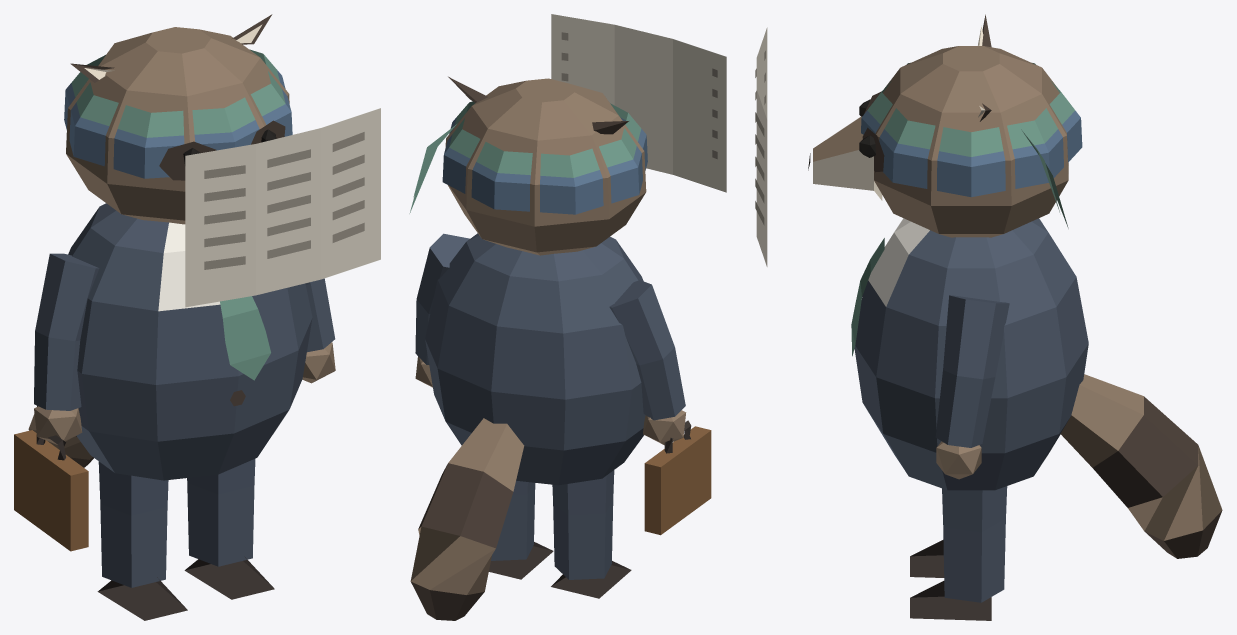
Rendered from tanuki.glb.
The picture shows the model from 3 angles, left to right: view 1: azimuth 30°, elevation 25°; view 2: azimuth 150°, elevation 25°; view 3: azimuth 270°, elevation 25°; orthographic projection. The views are drawn at different scales.
Visible parts, largest first — view 1: body, newspaper, head, leg_L, arm_L, leg_R, briefcase, mask, headtie, tie, arm_R, tail; view 2: body, newspaper, head, tail, mask, leg_L, arm_L, briefcase, headtie, leg_R, arm_R; view 3: body, head, tail, arm_R, leg_R, mask, headtie, newspaper, leg_L, tie.
Boxes of the visible parts, box(x1,y1,x2,y2) form: body: box(68, 203, 312, 480); newspaper: box(185, 108, 380, 307); head: box(66, 27, 289, 224); leg_L: box(97, 461, 187, 620); arm_L: box(34, 253, 99, 444); leg_R: box(184, 459, 274, 599); briefcase: box(14, 430, 88, 551); mask: box(64, 70, 292, 178); headtie: box(71, 49, 285, 137); tie: box(220, 296, 270, 380); arm_R: box(302, 278, 335, 383); tail: box(28, 406, 93, 467); body: box(425, 233, 645, 485); newspaper: box(551, 14, 726, 192); head: box(445, 78, 646, 255); tail: box(410, 418, 524, 620); mask: box(442, 117, 647, 214); leg_L: box(551, 470, 631, 598); arm_L: box(609, 280, 686, 445); briefcase: box(644, 420, 711, 535); headtie: box(409, 101, 641, 213); leg_R: box(489, 480, 553, 579); arm_R: box(415, 233, 469, 387); body: box(854, 218, 1088, 490); head: box(808, 46, 1068, 237); tail: box(1060, 374, 1222, 558); arm_R: box(935, 295, 1009, 479); leg_R: box(910, 486, 1007, 620); mask: box(861, 110, 1082, 197); headtie: box(867, 62, 1075, 228); newspaper: box(755, 27, 767, 266); leg_L: box(910, 540, 944, 577); tie: box(851, 238, 884, 356).
Bounding box in the file's own units: 0.0816 × 0.143 × 0.1145.
